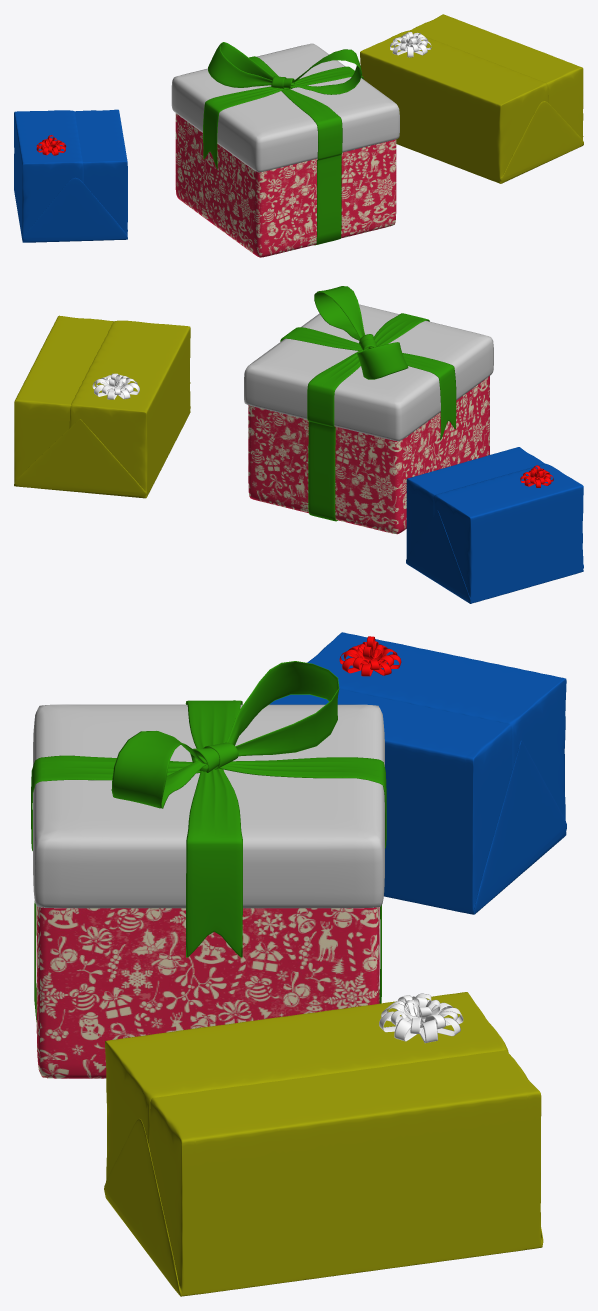
The picture shows the model from 3 angles, top to bottom: view 1: azimuth 30°, elevation 25°; view 2: azimuth 150°, elevation 25°; view 3: azimuth 270°, elevation 25°; orthographic projection. The views are drawn at different scales.
Parts seen in each view (by area): view 1: Line004_24 - Default_0, Box001, Line005_24 - Default2_0, Box002, Plane001, b003_01 - Default_0, Line002, Line003, BOW_SILVER_0, BOW001_04 - Default_0; view 2: Line004_24 - Default_0, Line005_24 - Default2_0, Box001, Box002, Plane001, b003_01 - Default_0, Line003, Line002, BOW_SILVER_0, BOW001_04 - Default_0; view 3: Line004_24 - Default_0, Box002, Line005_24 - Default2_0, Box001, b003_01 - Default_0, Plane001, Line002, Line003, BOW_SILVER_0, BOW001_04 - Default_0.
Boxes of the visible parts, bbox=[...] form: Line004_24 - Default_0: bbox=[360, 14, 583, 183]; Box001: bbox=[175, 113, 396, 257]; Line005_24 - Default2_0: bbox=[14, 109, 127, 242]; Box002: bbox=[171, 43, 399, 172]; Plane001: bbox=[249, 56, 342, 245]; b003_01 - Default_0: bbox=[203, 66, 363, 169]; Line002: bbox=[208, 42, 273, 87]; Line003: bbox=[290, 49, 362, 94]; BOW_SILVER_0: bbox=[390, 32, 431, 57]; BOW001_04 - Default_0: bbox=[36, 135, 66, 155]; Line004_24 - Default_0: bbox=[14, 315, 190, 498]; Line005_24 - Default2_0: bbox=[406, 447, 583, 603]; Box001: bbox=[248, 376, 489, 534]; Box002: bbox=[244, 304, 493, 441]; Plane001: bbox=[307, 313, 429, 521]; b003_01 - Default_0: bbox=[280, 327, 456, 440]; Line003: bbox=[314, 286, 365, 340]; Line002: bbox=[357, 342, 408, 379]; BOW_SILVER_0: bbox=[92, 373, 139, 399]; BOW001_04 - Default_0: bbox=[520, 465, 553, 487]; Line004_24 - Default_0: bbox=[104, 992, 543, 1296]; Box002: bbox=[33, 704, 384, 908]; Line005_24 - Default2_0: bbox=[269, 632, 566, 914]; Box001: bbox=[36, 906, 379, 1078]; b003_01 - Default_0: bbox=[185, 700, 242, 957]; Plane001: bbox=[31, 755, 386, 1021]; Line002: bbox=[226, 661, 339, 756]; Line003: bbox=[111, 731, 207, 808]; BOW_SILVER_0: bbox=[379, 993, 463, 1043]; BOW001_04 - Default_0: bbox=[339, 636, 401, 676].
Size of the model in its own units: 183 by 53.53 by 81.69.
7 materials, 1 textured.
